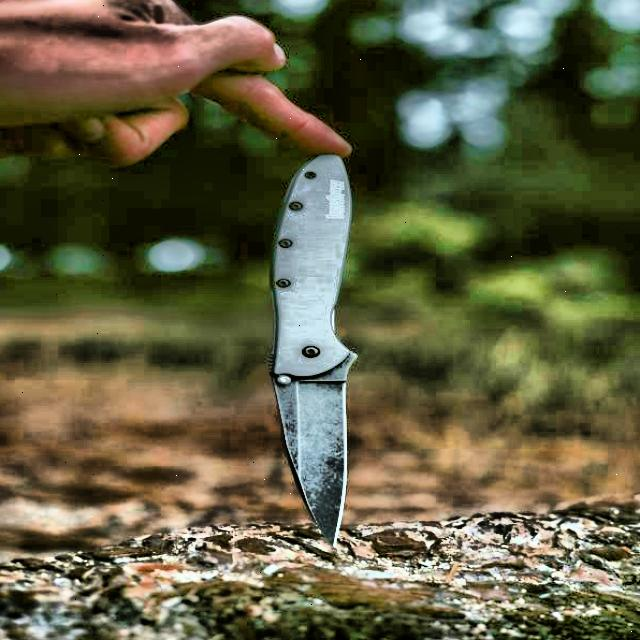knife: (271, 142, 393, 558)
